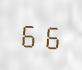six: (40, 19, 60, 51), (19, 18, 39, 49)
